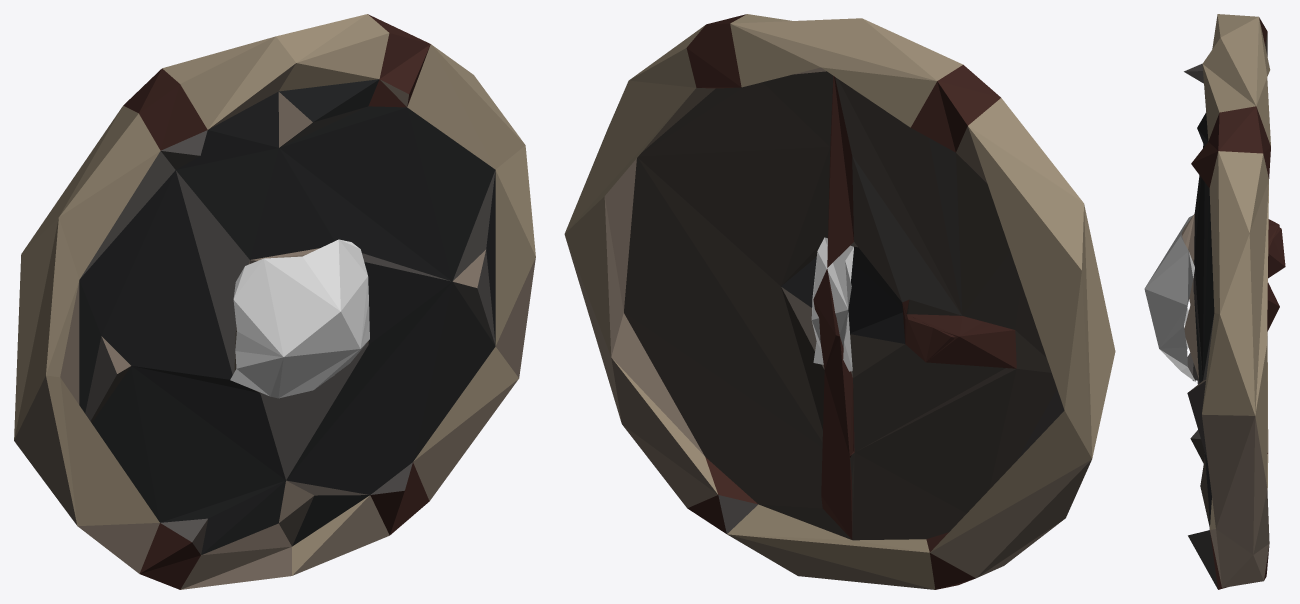
File: aithrall_shield_lo.glb
The picture shows the model from 3 angles, left to right: view 1: azimuth 30°, elevation 25°; view 2: azimuth 150°, elevation 25°; view 3: azimuth 270°, elevation 25°; orthographic projection. The views are drawn at different scales.
Visible parts, largest first — view 1: ca_aithrall_shield_lo; view 2: ca_aithrall_shield_lo; view 3: ca_aithrall_shield_lo.
Boxes of the visible parts, x1=… form: ca_aithrall_shield_lo: x1=14, y1=14, x2=535, y2=589; ca_aithrall_shield_lo: x1=564, y1=14, x2=1115, y2=589; ca_aithrall_shield_lo: x1=1144, y1=14, x2=1285, y2=589.
Size of the model in its own units: 0.4653 by 0.4682 by 0.1158.
